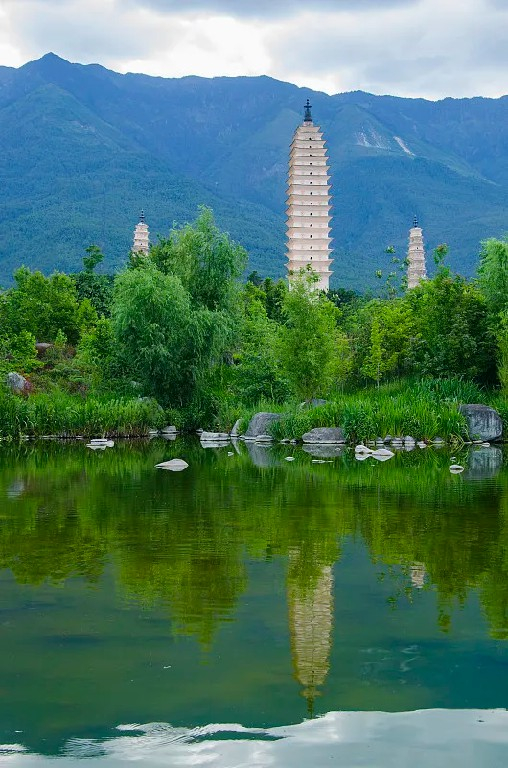ThreePagoda: (284, 98, 334, 295)
